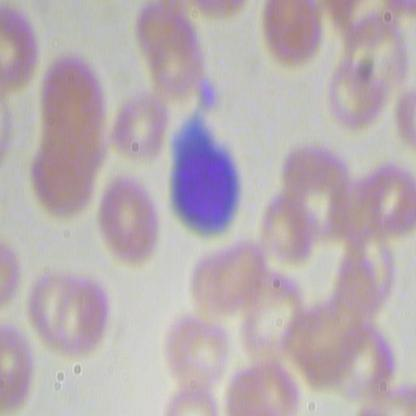Platelets: (195, 75, 217, 113)
WBC: (158, 111, 252, 252)
